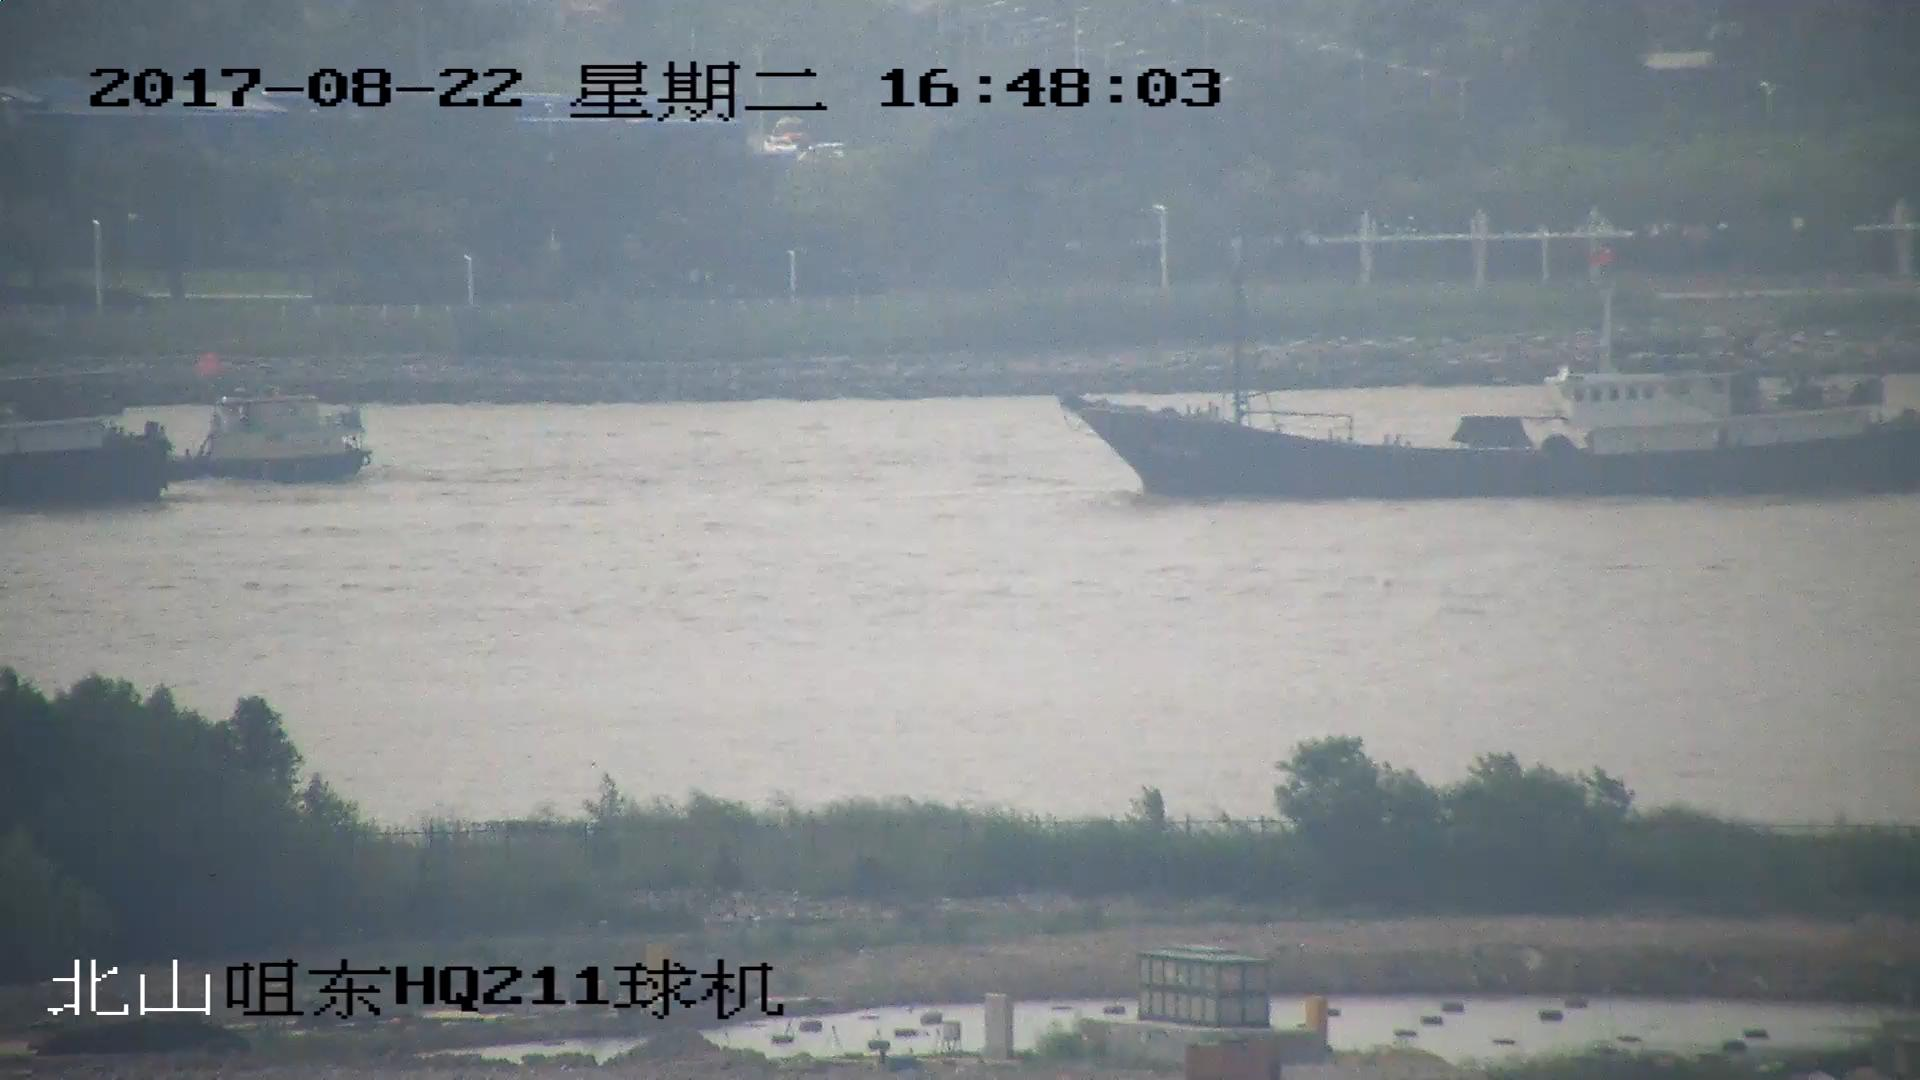fishing boat: (1061, 244, 1920, 505), (1, 356, 372, 484), (1, 393, 172, 507)
